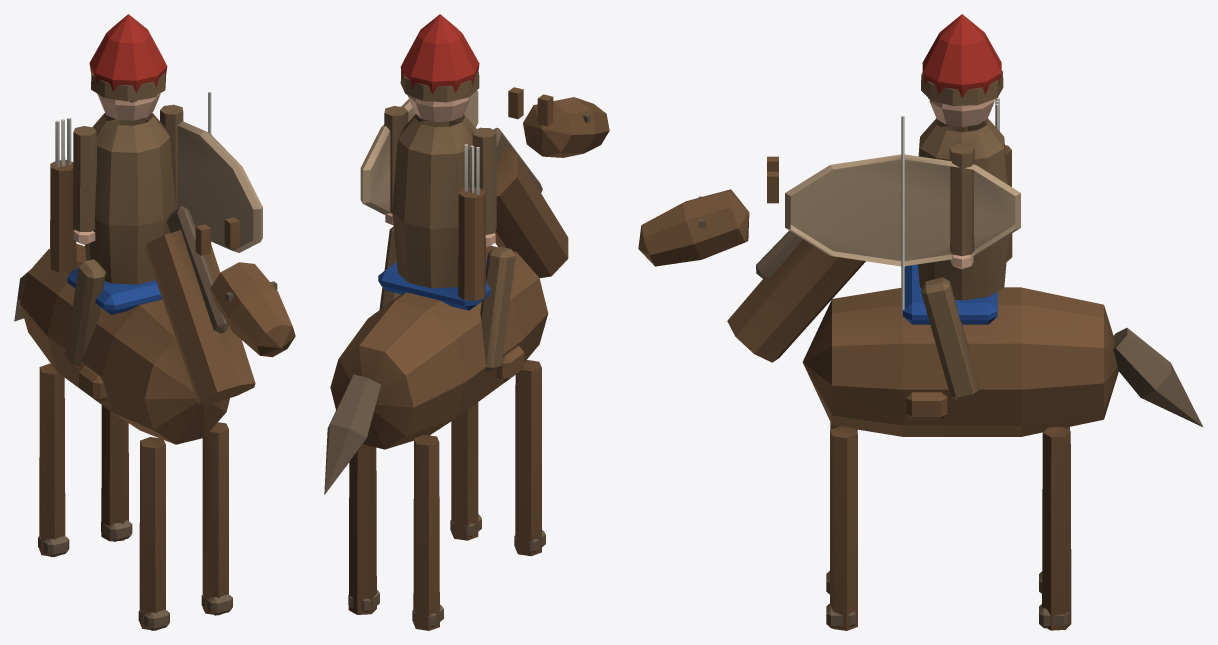
The model's file is unit_konny_luchnik.glb.
The picture shows the model from 3 angles, left to right: view 1: azimuth 30°, elevation 25°; view 2: azimuth 150°, elevation 25°; view 3: azimuth 270°, elevation 25°; orthographic projection. The views are drawn at different scales.
Parts seen in each view (by area): view 1: unit_konny_luchnik; view 2: unit_konny_luchnik; view 3: unit_konny_luchnik.
Boxes of the visible parts, <box> form: unit_konny_luchnik: <box>14,14,295,630</box>; unit_konny_luchnik: <box>324,14,609,630</box>; unit_konny_luchnik: <box>638,14,1203,630</box>.
Size of the model in its own units: 0.2475 by 1.11 by 0.9565.
